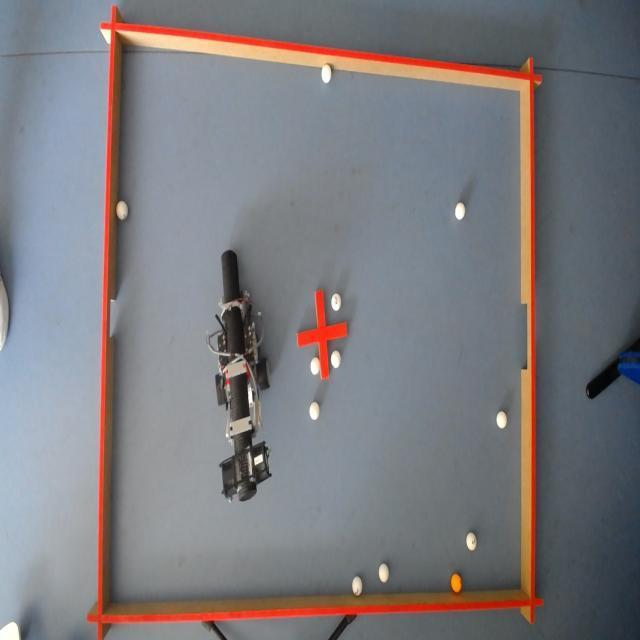orange: (448, 575, 462, 594)
robot: (210, 254, 263, 492)
white: (116, 200, 130, 220), (377, 562, 388, 586), (453, 200, 465, 220), (351, 575, 362, 596), (496, 409, 508, 428), (308, 358, 320, 377), (318, 62, 329, 82), (466, 531, 476, 552), (330, 292, 340, 312), (330, 348, 340, 368), (308, 402, 318, 420)
